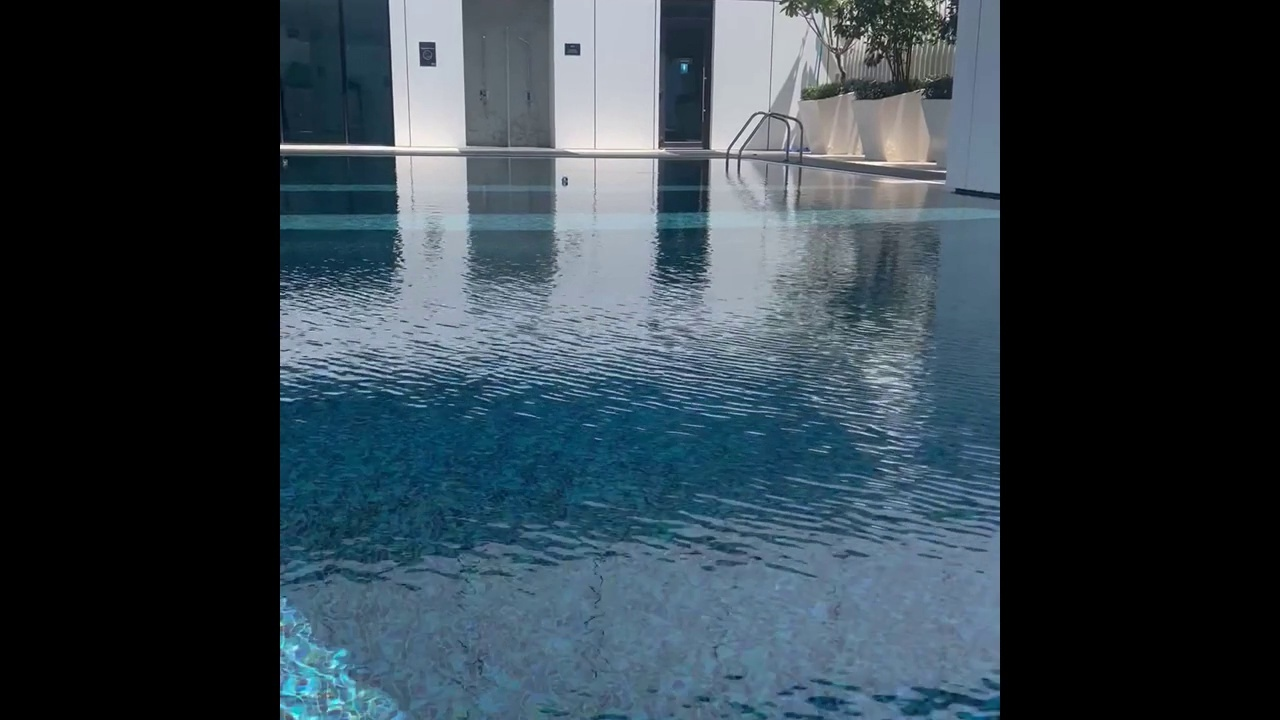debris: (558, 175, 571, 186)
